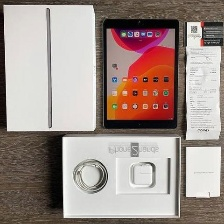book: (2, 1, 97, 134), (59, 130, 183, 222), (183, 18, 224, 141), (184, 144, 222, 200)
phone: (100, 17, 181, 130)
